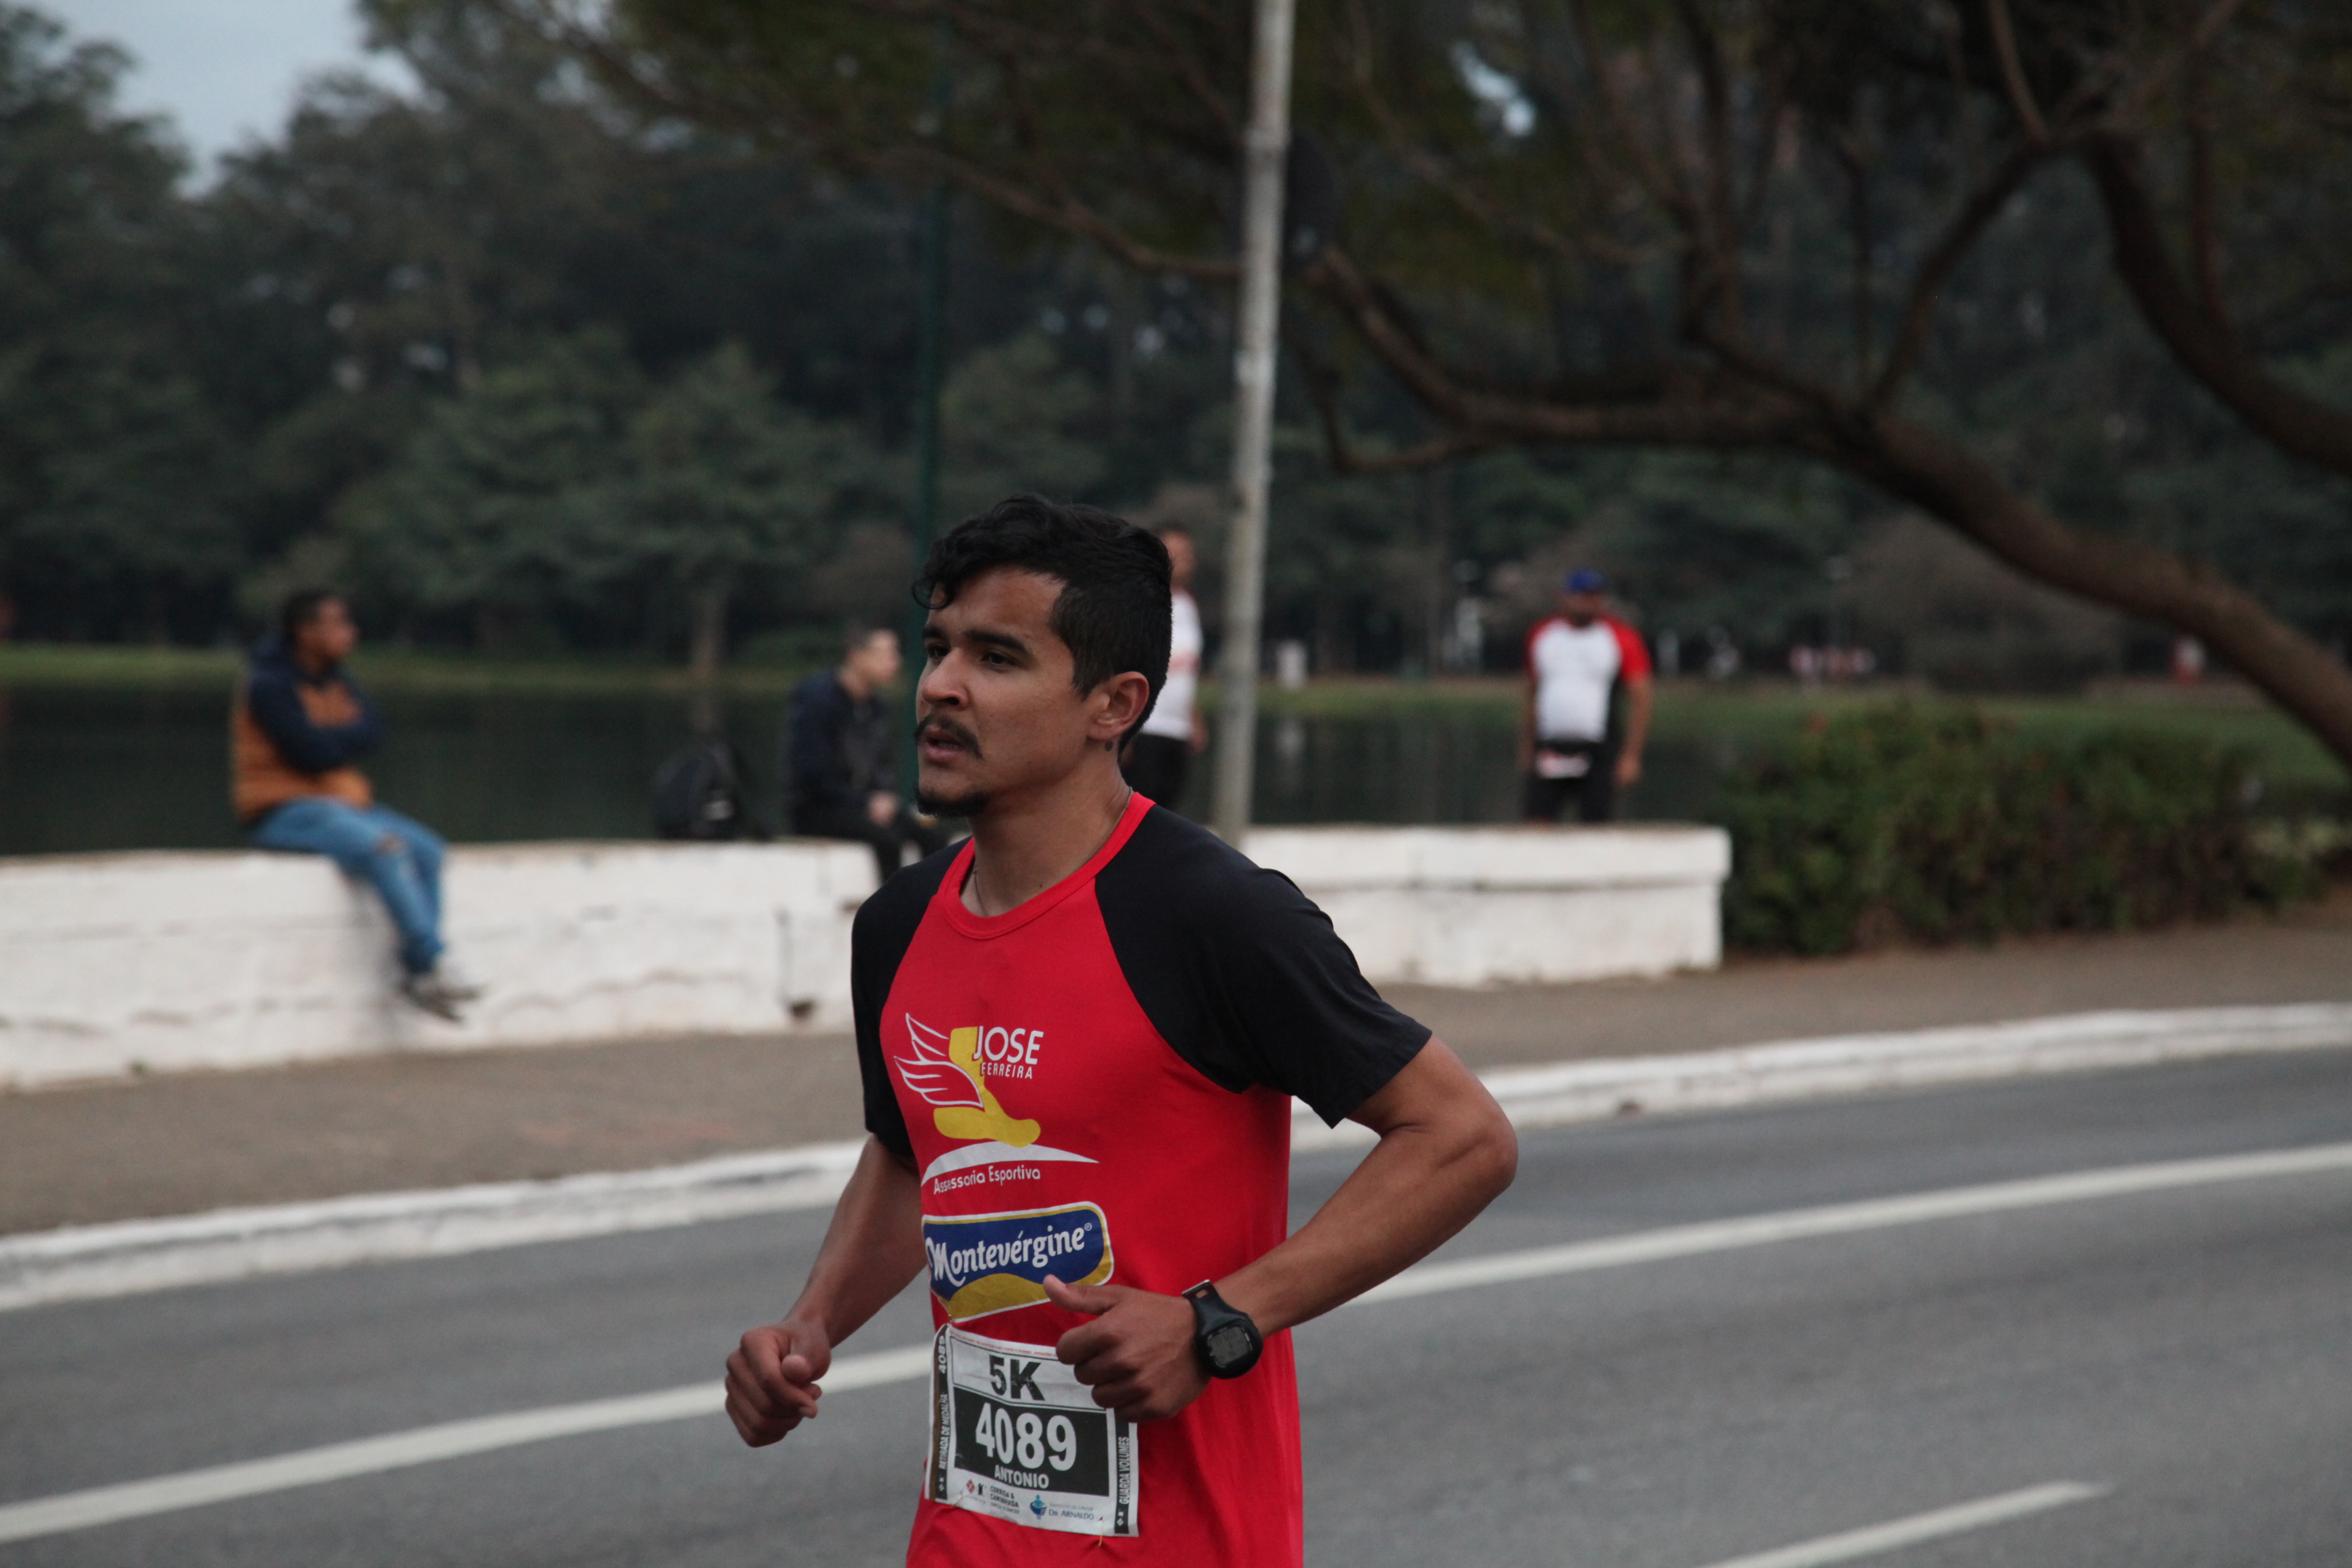bibtag: (920, 1305, 1153, 1554)
